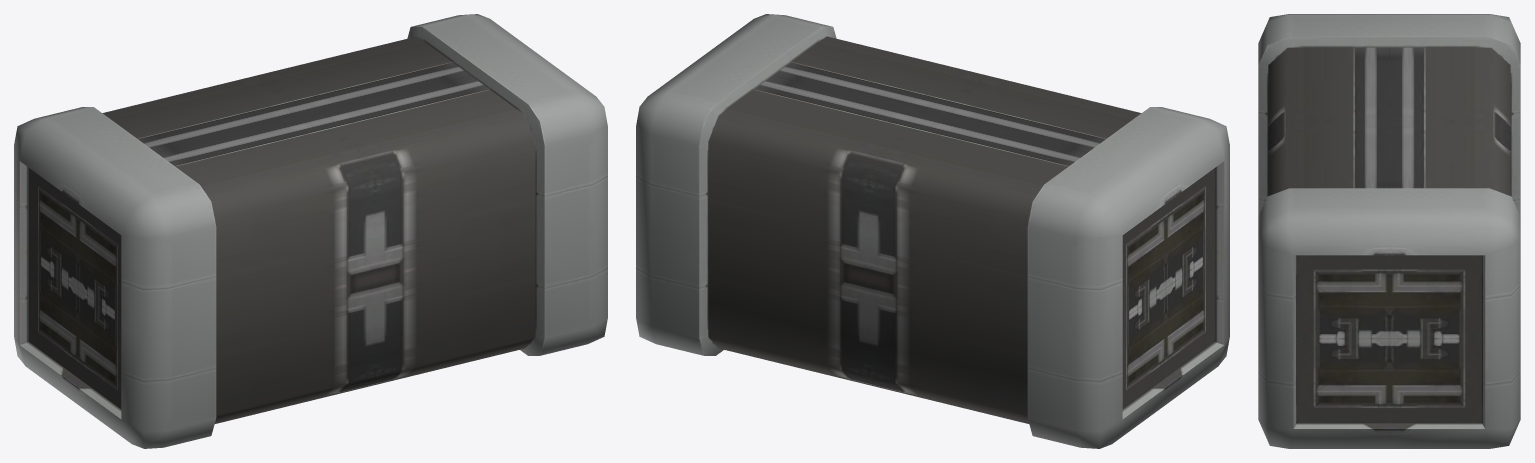
File: Part - block4-Ojpk-9U_.glb
3 views of the same model, side by side, from view 1: azimuth 30°, elevation 25°; view 2: azimuth 150°, elevation 25°; view 3: azimuth 270°, elevation 25° (orthographic). The views are drawn at different scales.
Parts seen in each view (by area): view 1: block4; view 2: block4; view 3: block4.
Part boxes in pixels (<box>): block4: <box>14,14,607,448</box>; block4: <box>636,14,1229,448</box>; block4: <box>1258,14,1520,448</box>.
Size of the model in its own units: 2 by 1 by 1.
1 material, 1 textured.
